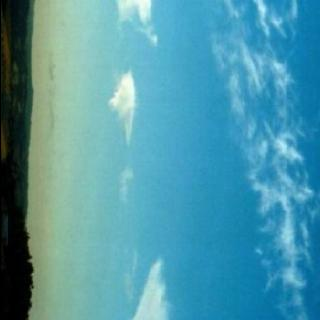Cirrus: (101, 0, 320, 320)
